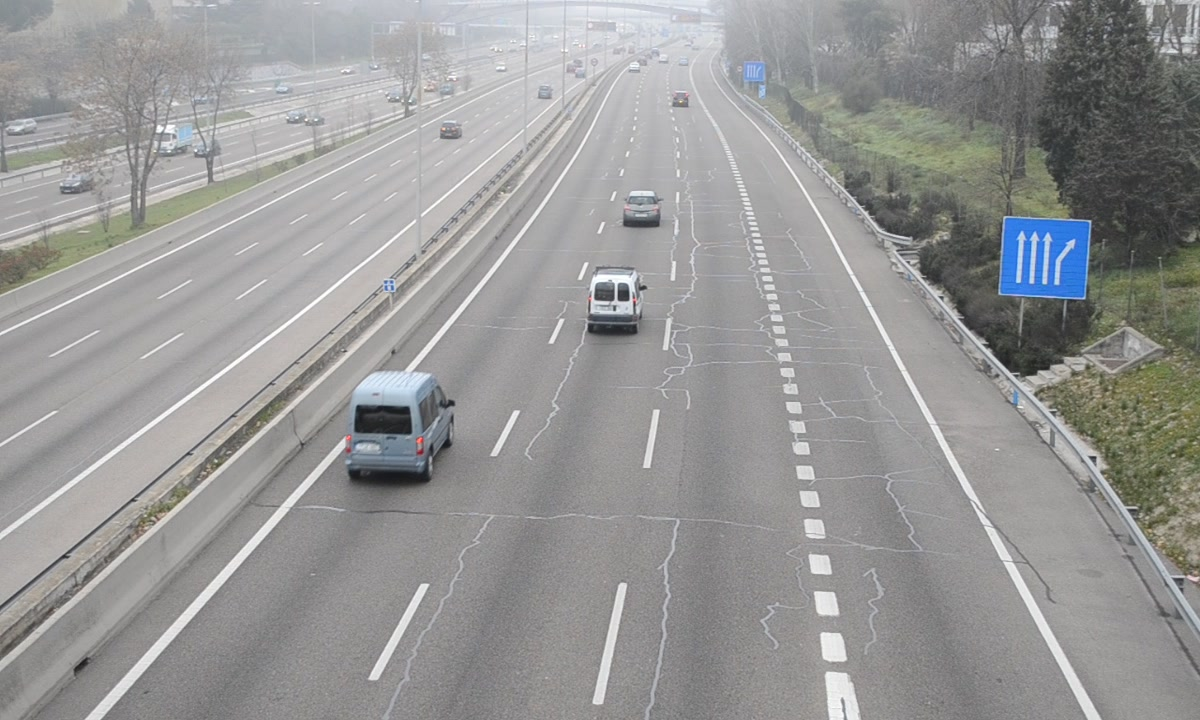car: (622, 190, 663, 228)
van: (347, 374, 453, 476), (587, 269, 644, 331)
